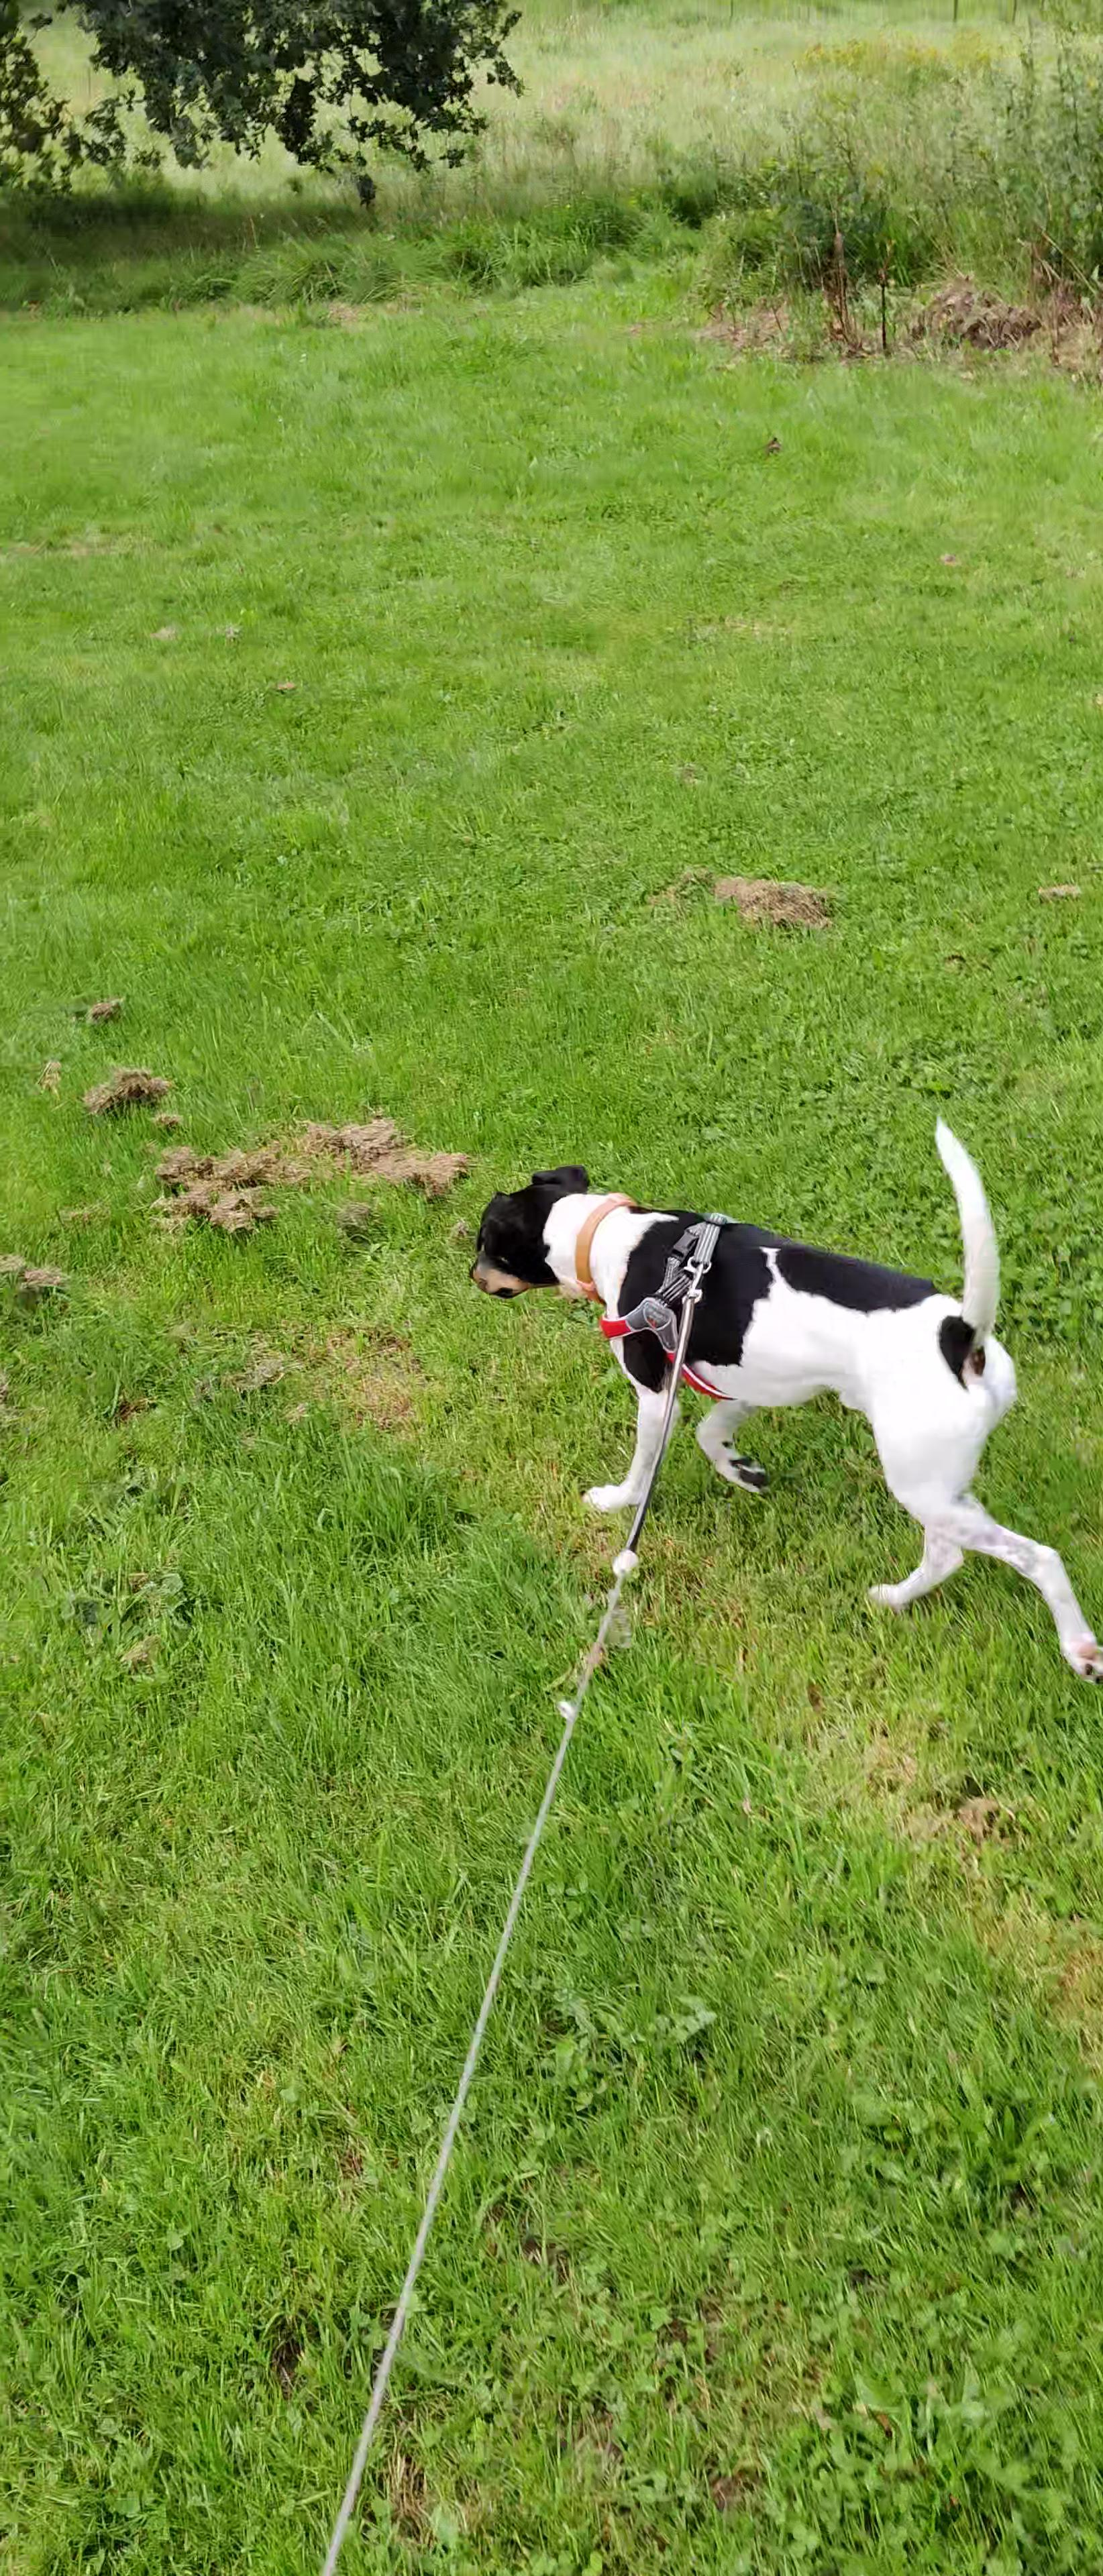Dog: (439, 1099, 1103, 1697)
